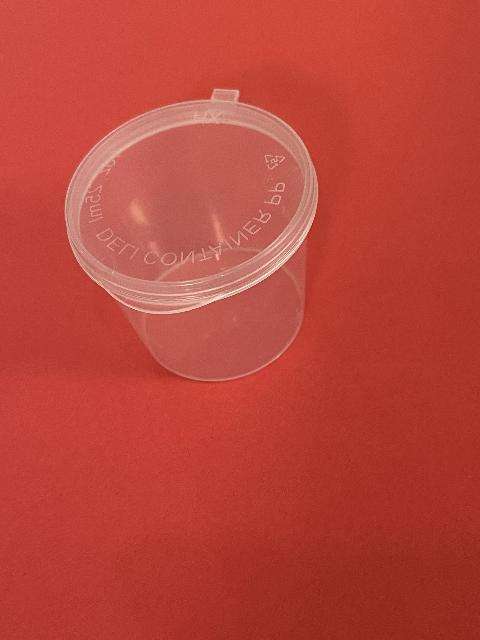plasticcontainer: (62, 86, 322, 387)
